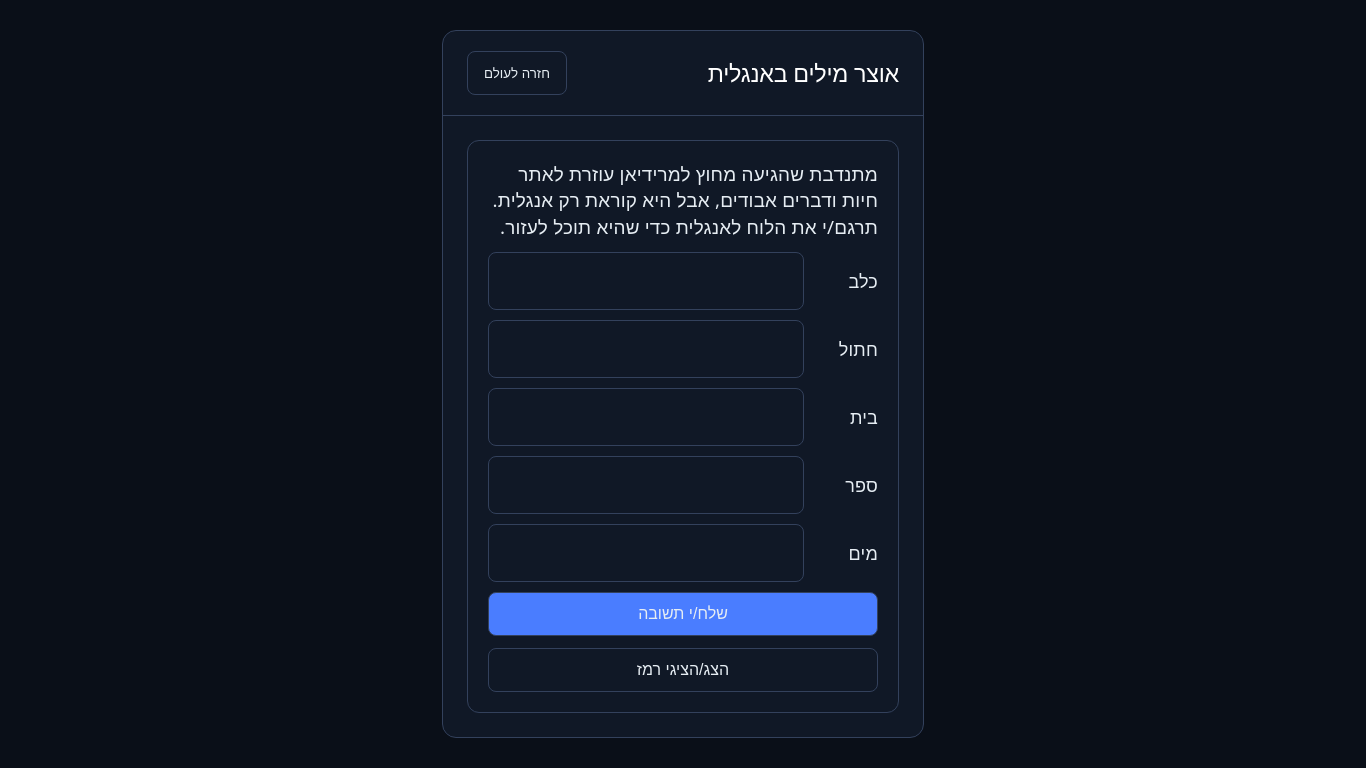
Test: LessonStage — question-selection fix pass (difficultyLevel provided) › cycles through genuinely distinct English words via Next Question, driven by the real englishLessonPool at Level 1
Later steps or results of the test are not shown.
Type "dog" into the field with test id "english-answer-input-0" at (646, 281), box [488,252,804,310]
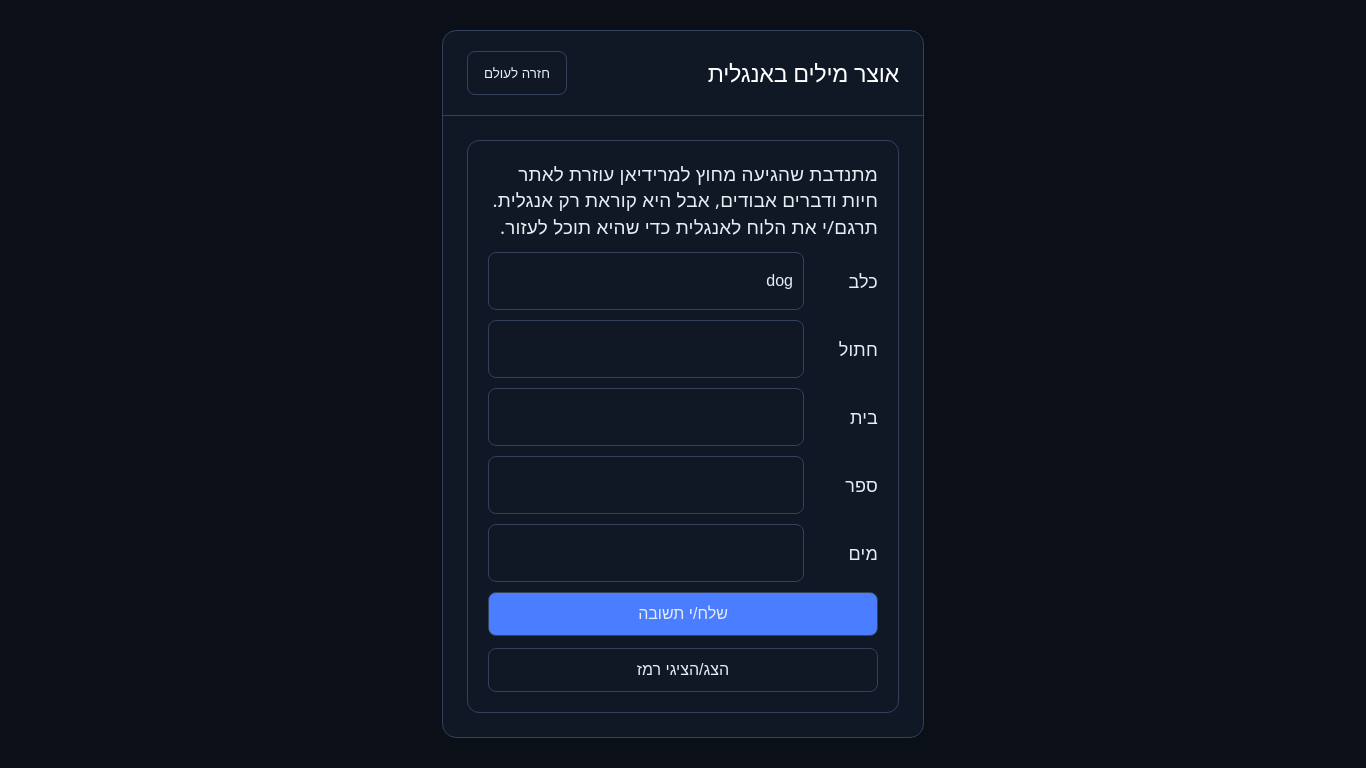
Type "cat" into the field with test id "english-answer-input-1" at (646, 349), box [488,320,804,378]
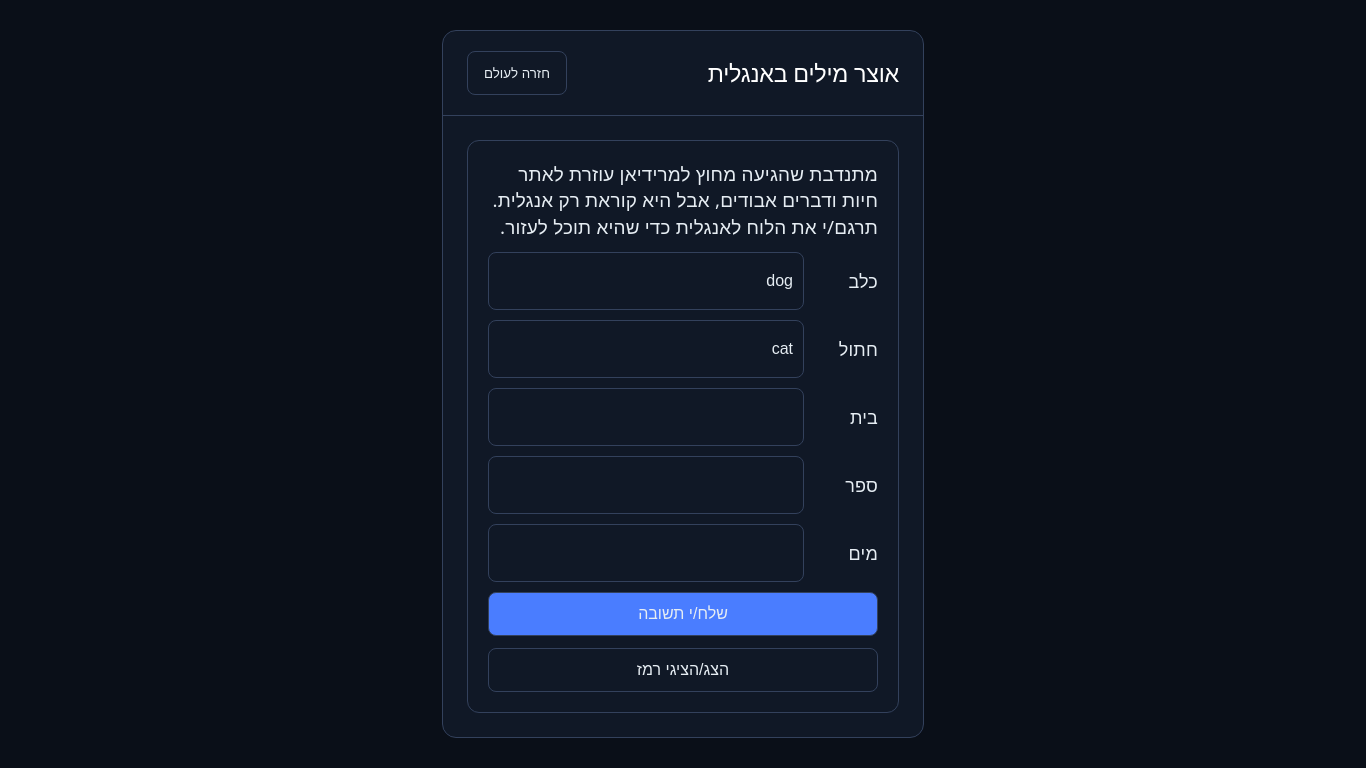
Type "house" into the field labelled "בית" at (646, 417), box [488,388,804,446]
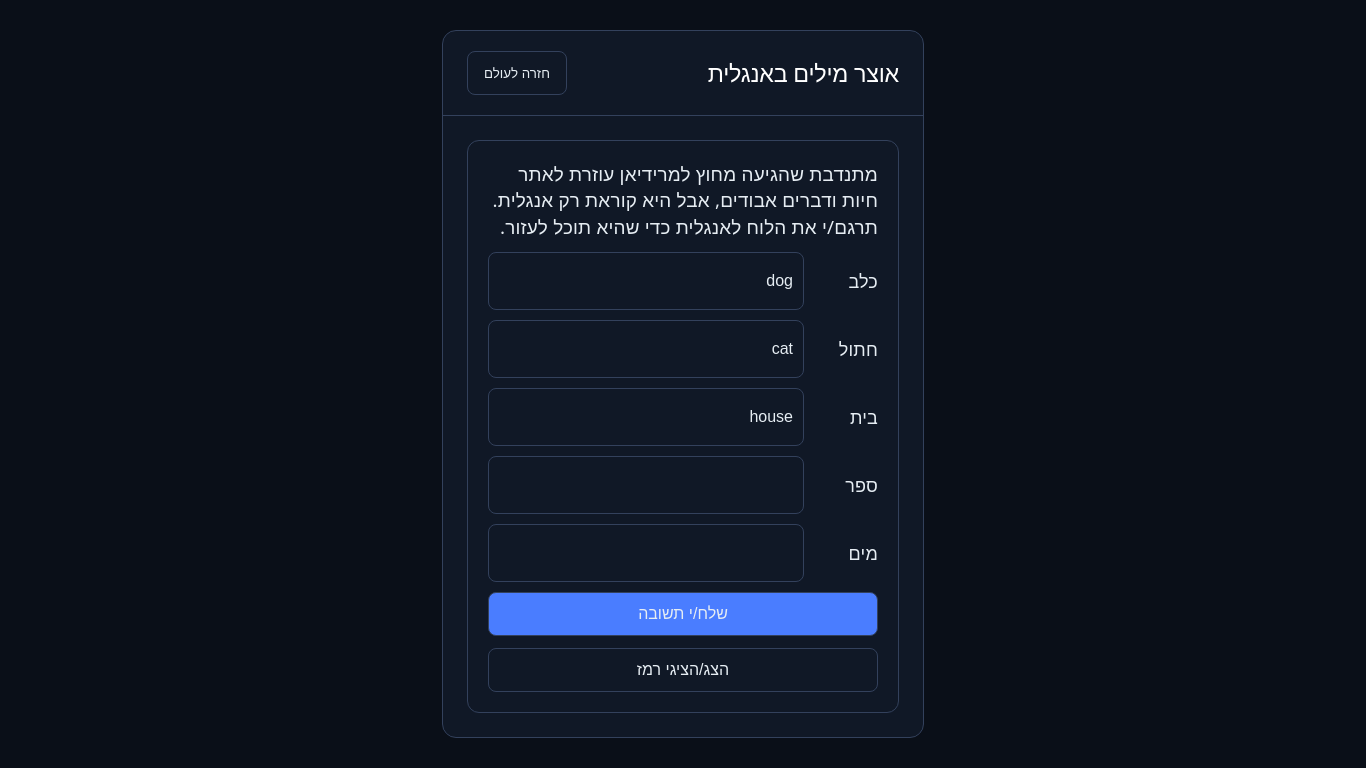
Type "book" into the field labelled "ספר" at (646, 485), box [488,456,804,514]
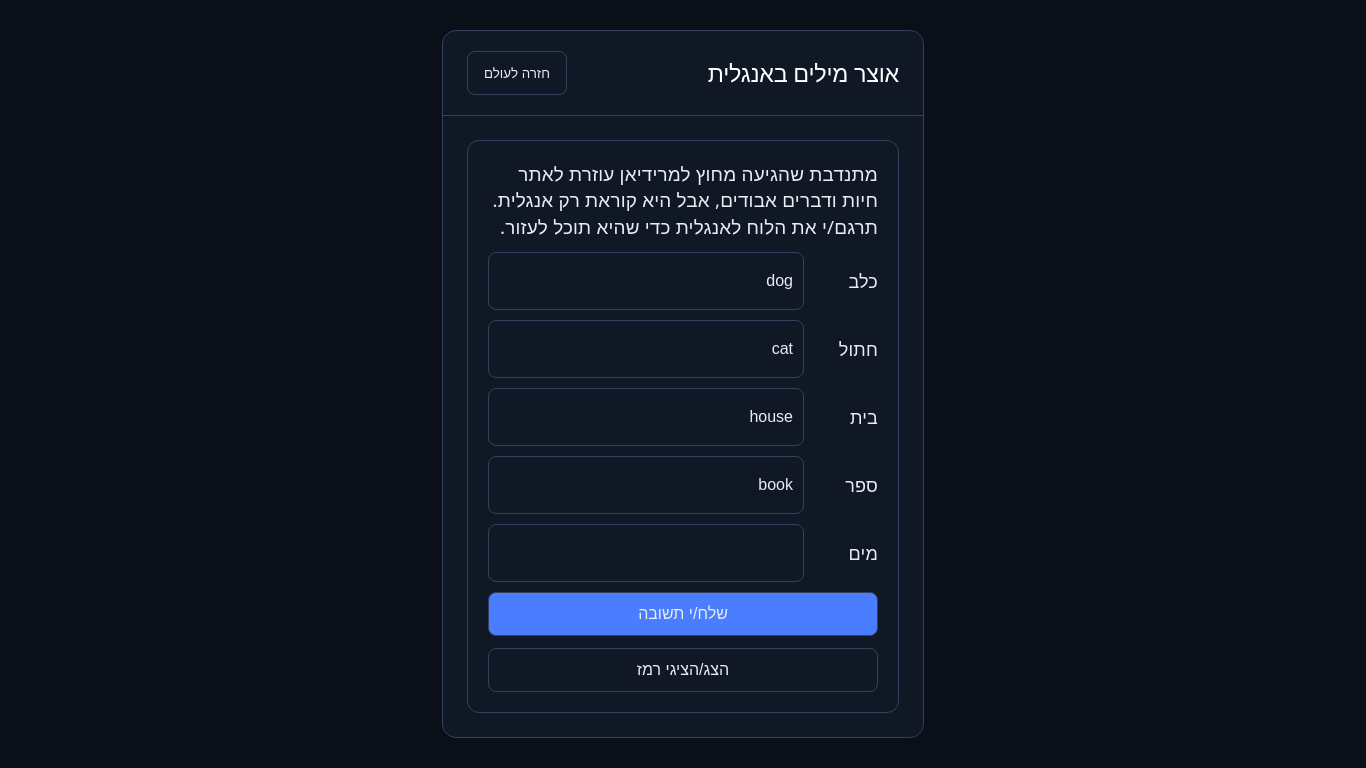
Type "water" into the field labelled "מים" at (646, 553), box [488,524,804,582]
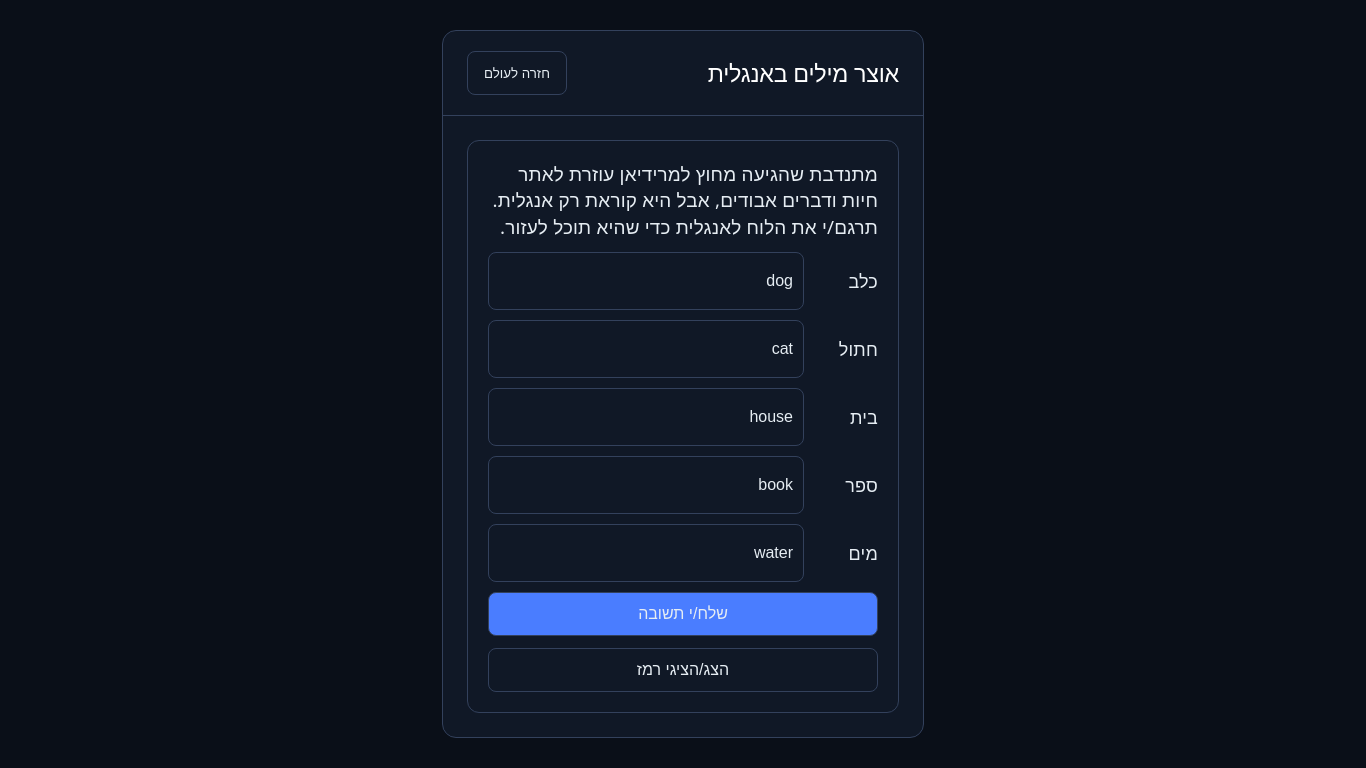
Click the button with test id "english-submit-button" at (683, 614), box [488,592,878,636]
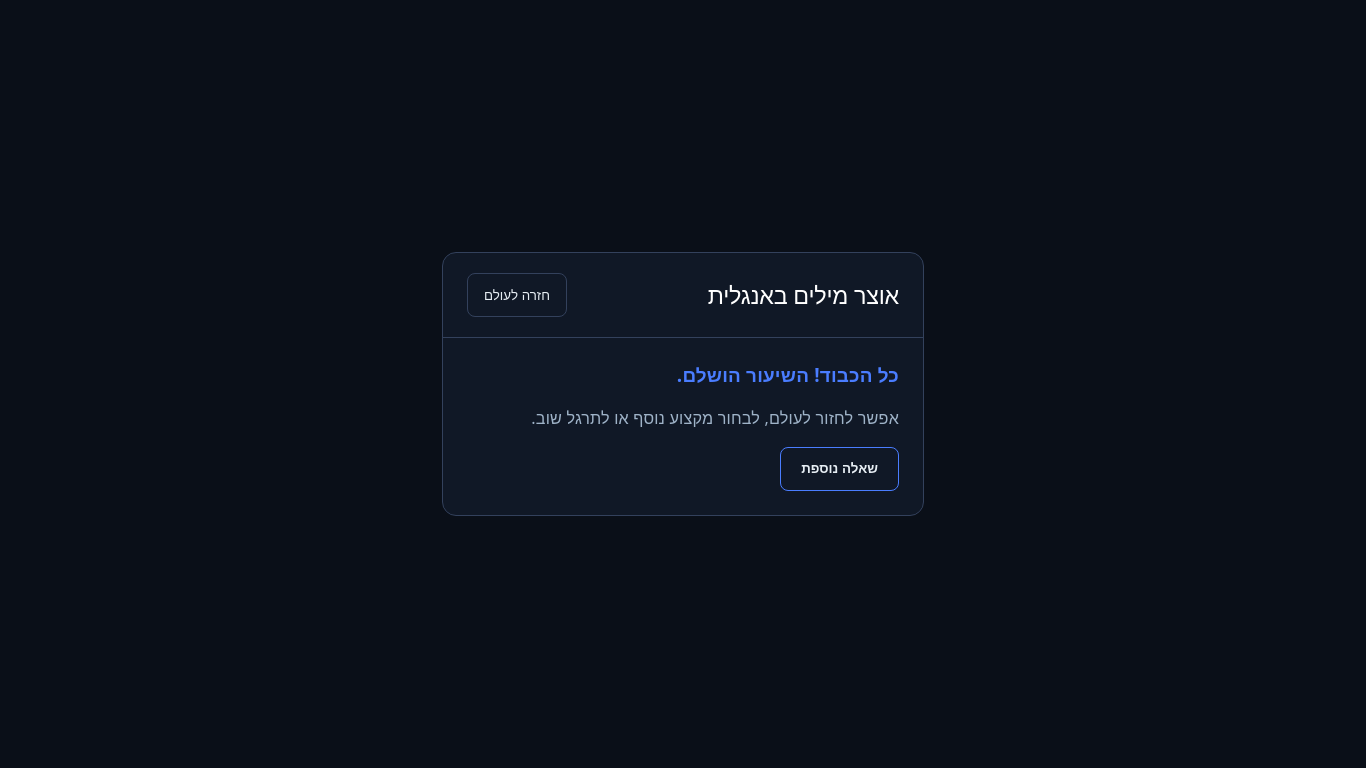
Expected: the text "כל הכבוד! השיעור הושלם." is shown, [677,362,899,388]
